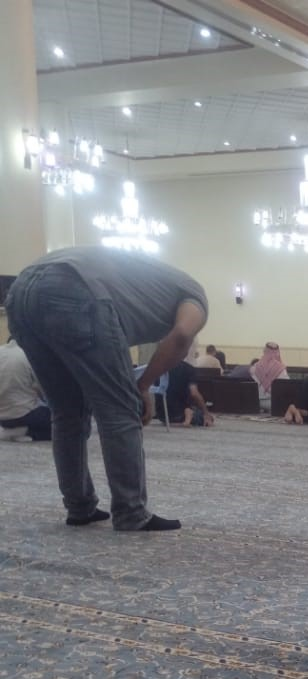ruku: (14, 204, 269, 600)
